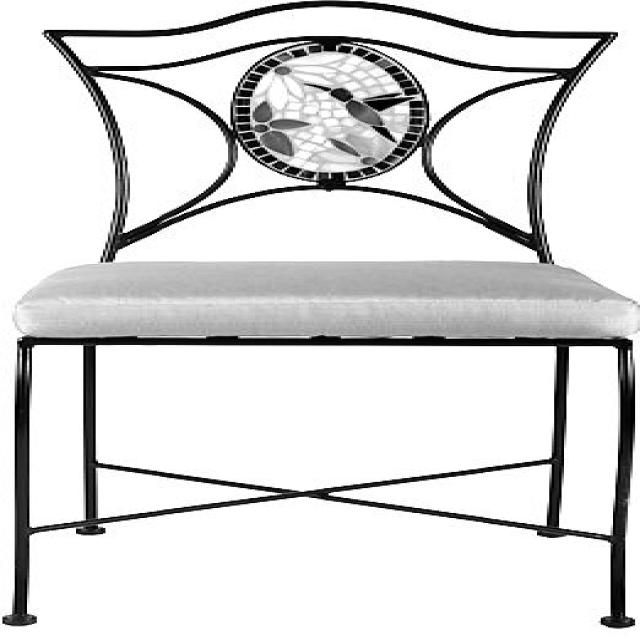chair: (2, 0, 638, 629)
